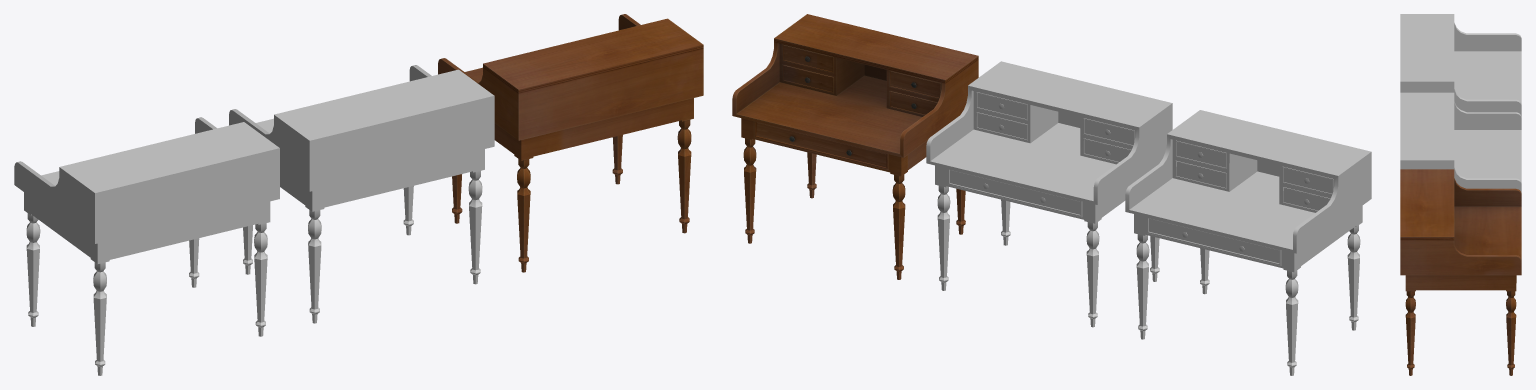
File: writing_desk.FBX
3 views of the same model, side by side, from view 1: azimuth 30°, elevation 25°; view 2: azimuth 150°, elevation 25°; view 3: azimuth 270°, elevation 25° (orthographic). The views are drawn at different scales.
Visible parts, largest first — view 1: writing_desk_dirt_02, writing_desk_dirt_01, writing_desk_normal; view 2: writing_desk_dirt_02, writing_desk_dirt_01, writing_desk_normal; view 3: writing_desk_normal, writing_desk_dirt_02, writing_desk_dirt_01.
Boxes of the visible parts, x1=… form: writing_desk_dirt_02: x1=14, y1=117, x2=279, y2=375; writing_desk_dirt_01: x1=229, y1=65, x2=494, y2=323; writing_desk_normal: x1=438, y1=14, x2=703, y2=272; writing_desk_dirt_02: x1=1125, y1=110, x2=1371, y2=375; writing_desk_dirt_01: x1=926, y1=61, x2=1172, y2=327; writing_desk_normal: x1=732, y1=14, x2=978, y2=279; writing_desk_normal: x1=1400, y1=169, x2=1521, y2=375; writing_desk_dirt_02: x1=1400, y1=14, x2=1521, y2=116; writing_desk_dirt_01: x1=1400, y1=92, x2=1521, y2=192.
Size of the model in its own units: 296 by 88.34 by 68.1.
